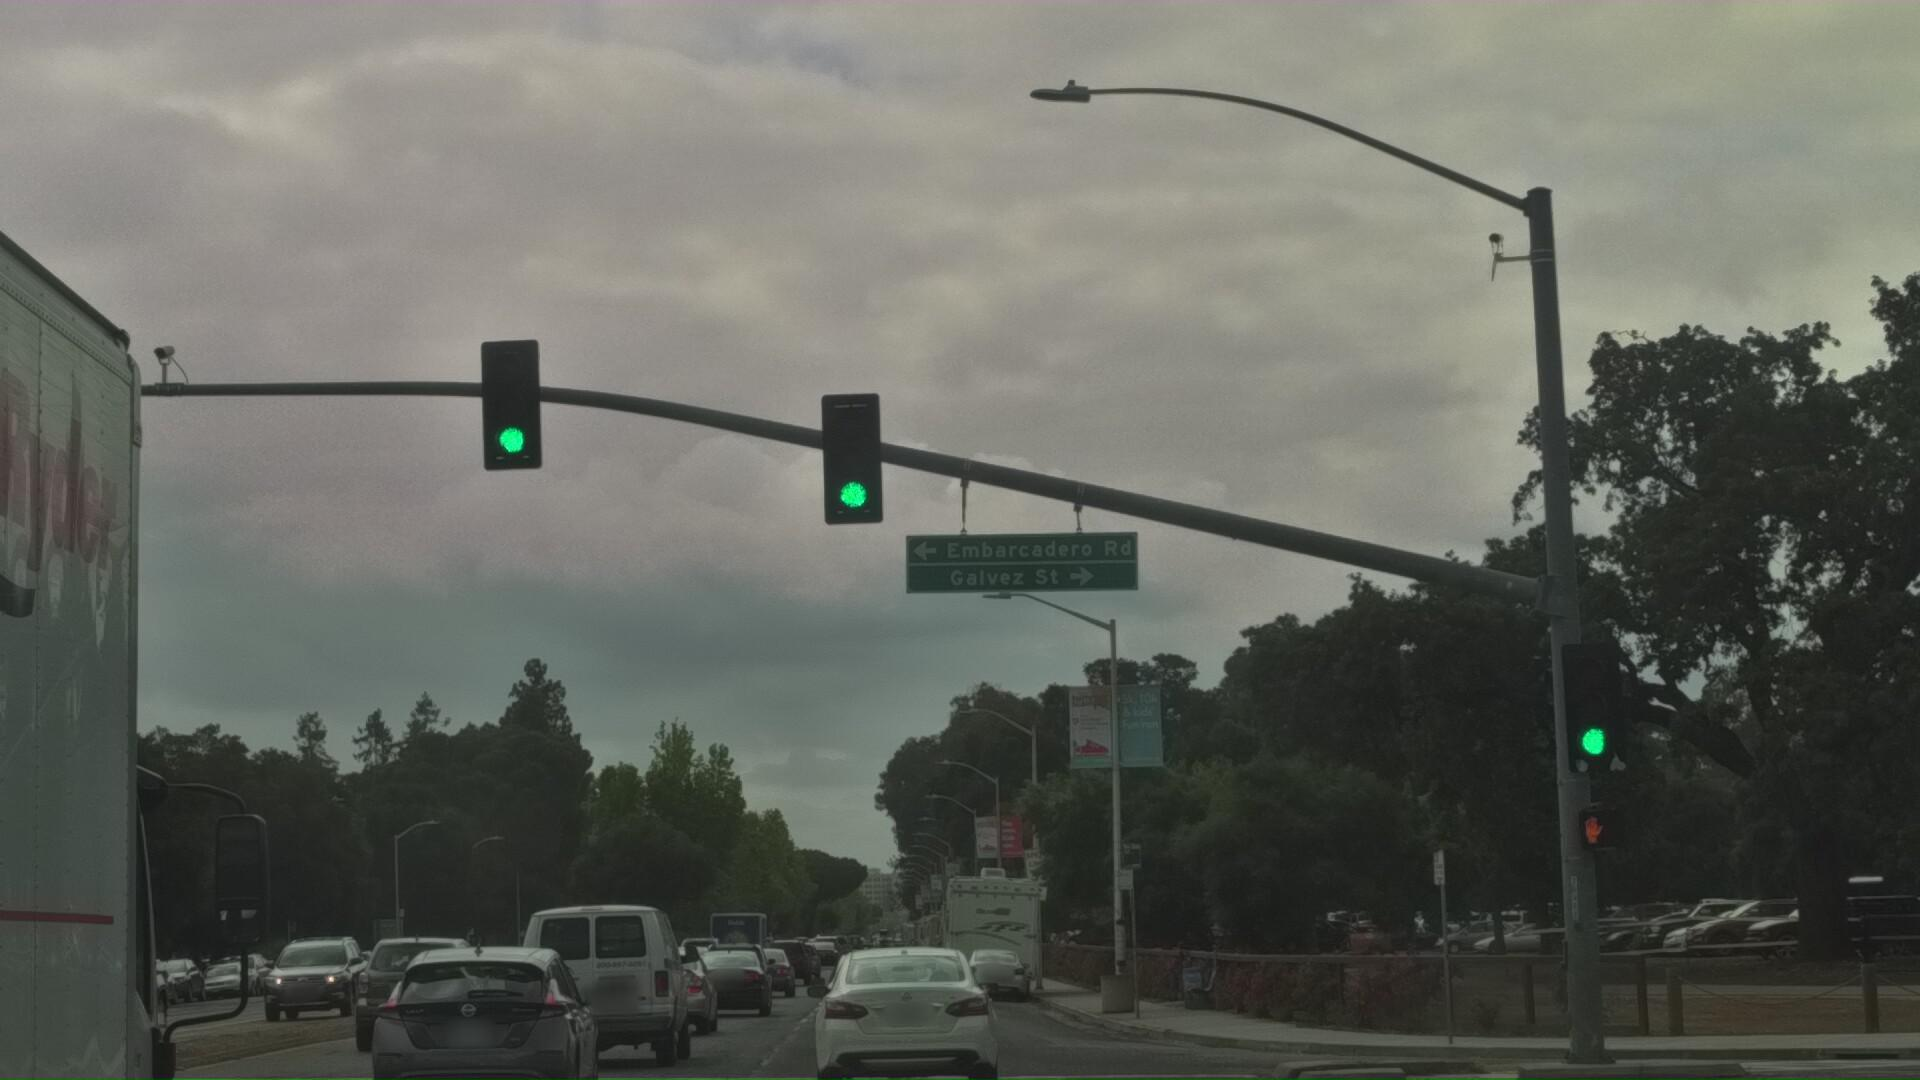car: (514, 980, 696, 1080), (345, 1023, 607, 1080), (807, 1014, 963, 1080), (803, 1029, 997, 1080), (336, 1027, 491, 1080), (255, 1036, 373, 1080), (0, 1040, 109, 1080), (622, 1046, 742, 1080), (694, 1048, 785, 1080)
truck: (0, 0, 270, 1080)
